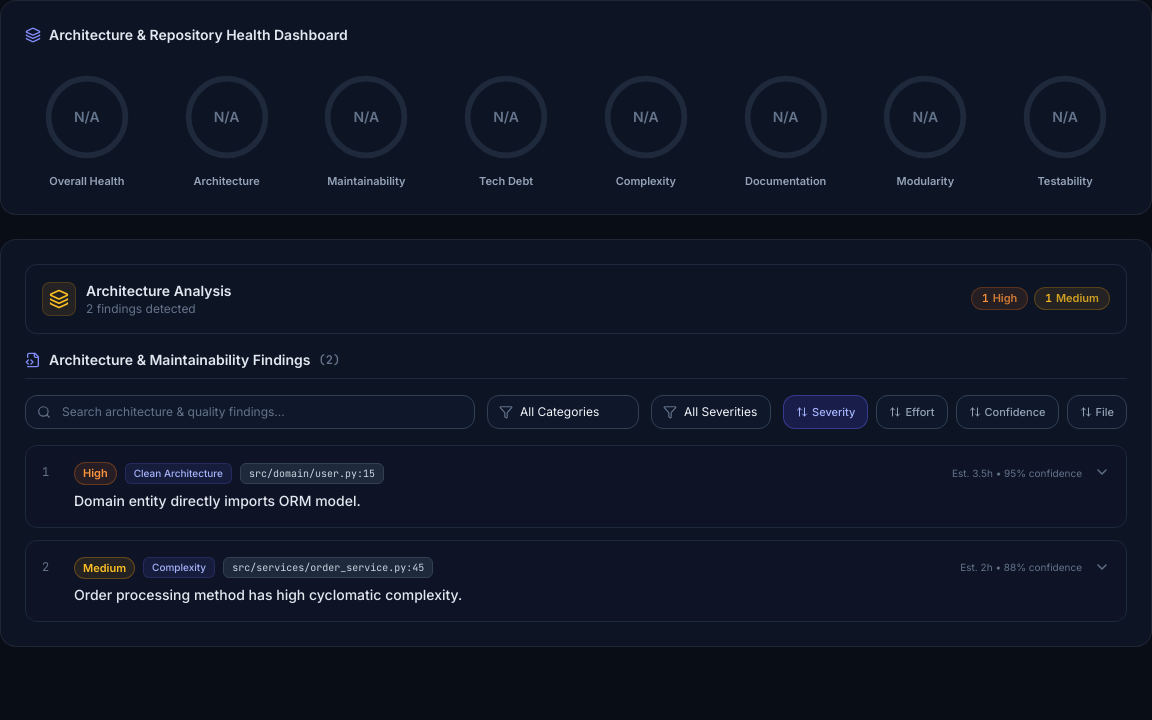
Test case: ArchitectureTab Component › filters findings by search query
Type "Order processing" into the field with placeholder "Search architecture & quality findings..." at (250, 412), box [25,395,475,429]
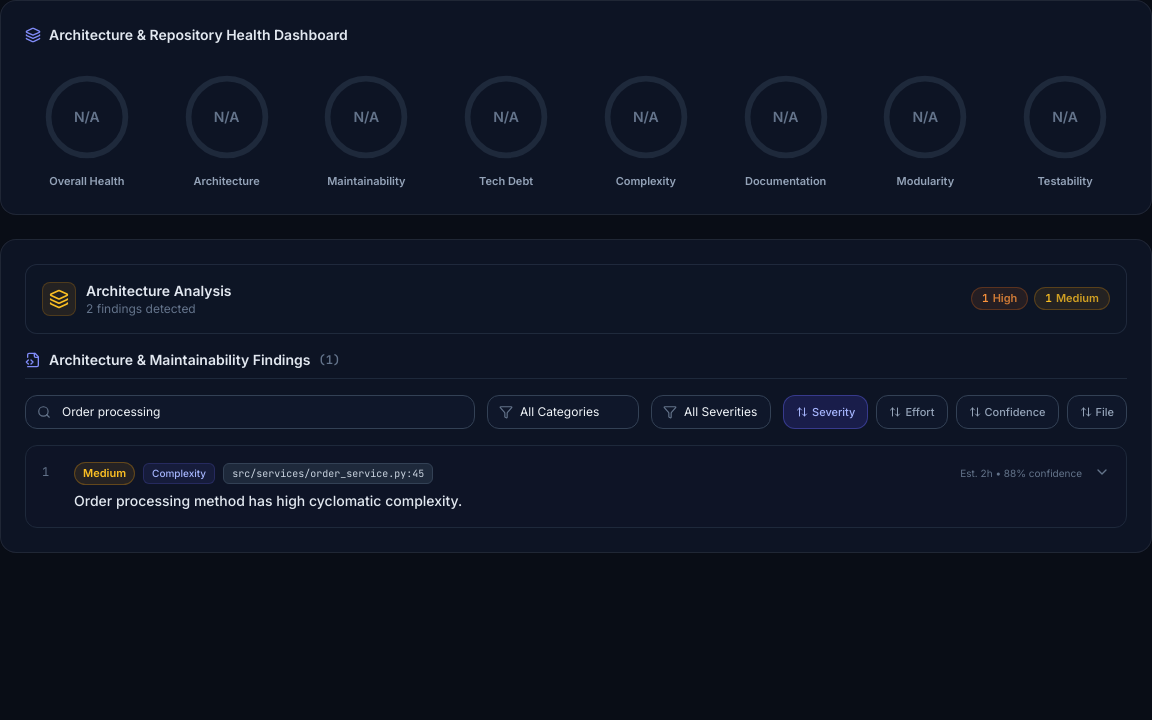
Expected: the text "Order processing method has high cyclomatic complexity." is shown, [74,492,462,508]
Expected: the button "Domain entity directly imports ORM model." is gone
